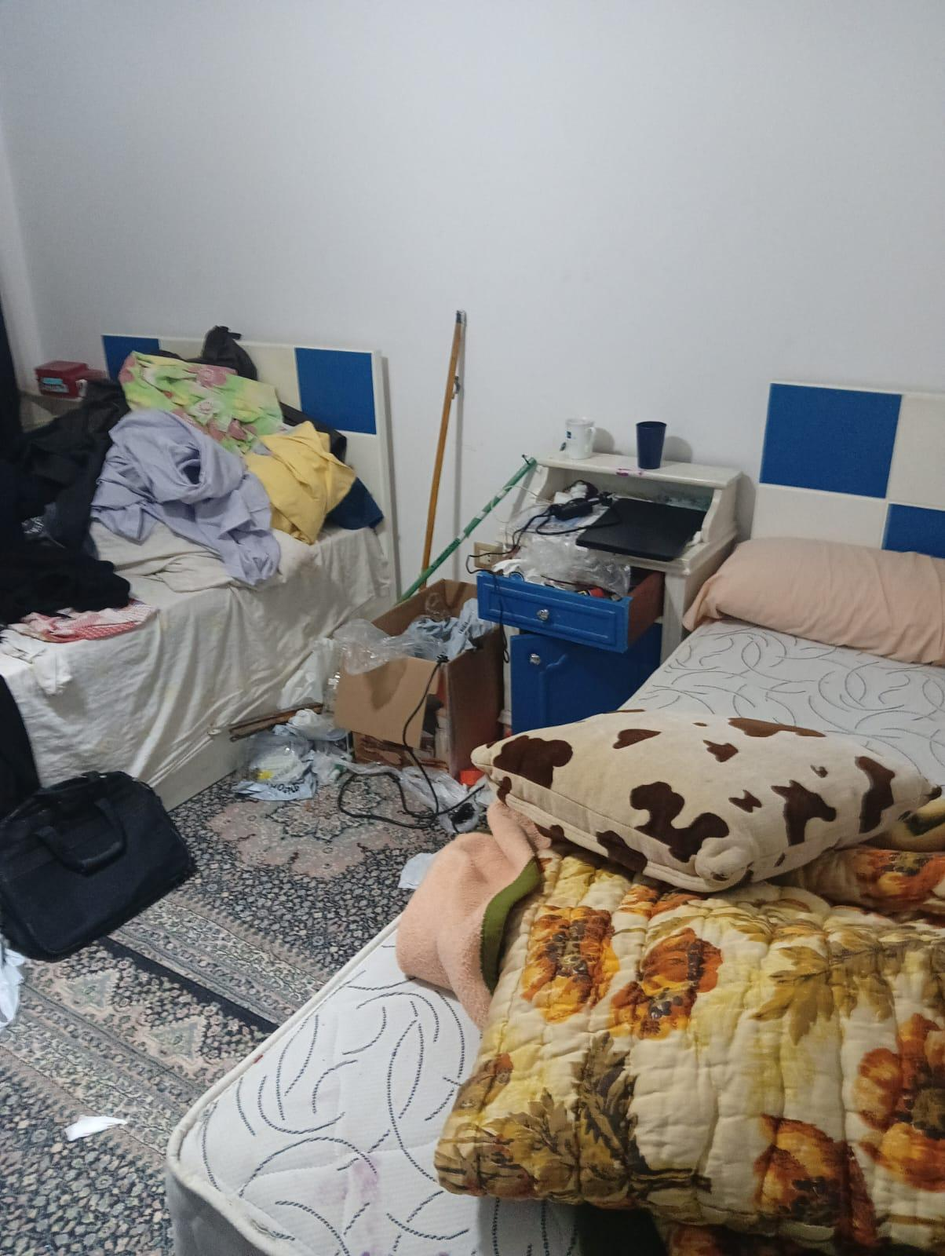cup: (636, 421, 666, 469), (564, 418, 593, 460)
